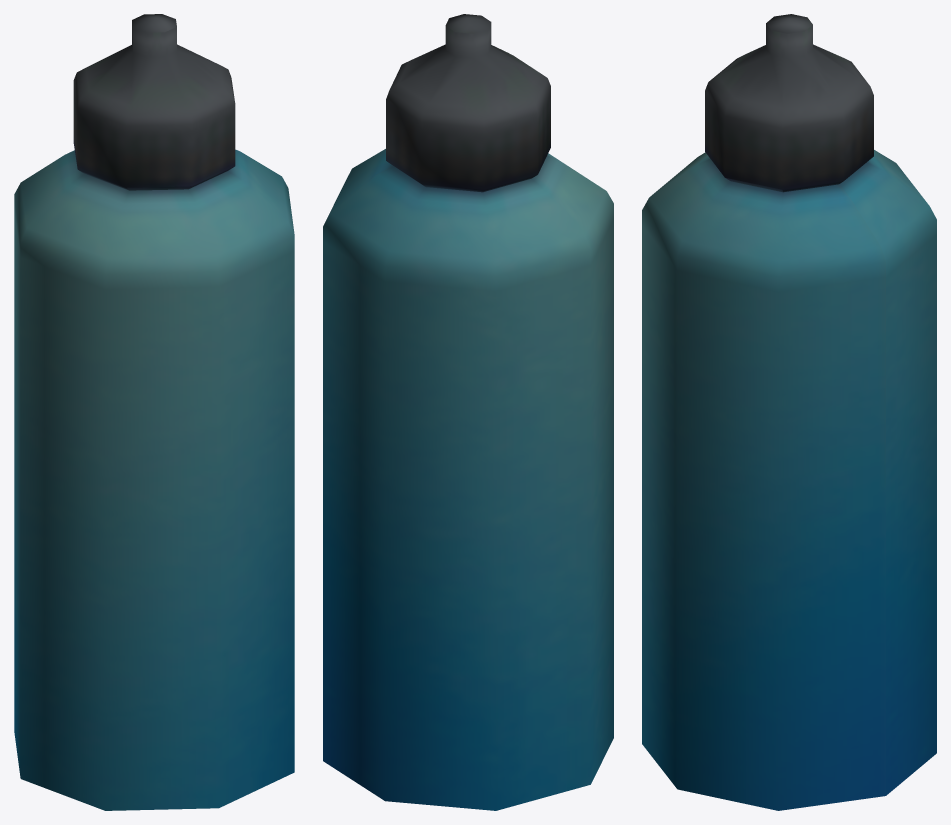
File: blueBottle.FBX
3 renders of one model, left to right at view 1: azimuth 30°, elevation 25°; view 2: azimuth 150°, elevation 25°; view 3: azimuth 270°, elevation 25°, orthographic.
Parts seen in each view (by area): view 1: blueBottle; view 2: blueBottle; view 3: blueBottle.
Part boxes in pixels (bbox=[...]): blueBottle: bbox=[14, 14, 294, 810]; blueBottle: bbox=[323, 14, 613, 810]; blueBottle: bbox=[642, 14, 936, 810].
Size of the model in its own units: 10.89 by 29.73 by 10.89.
